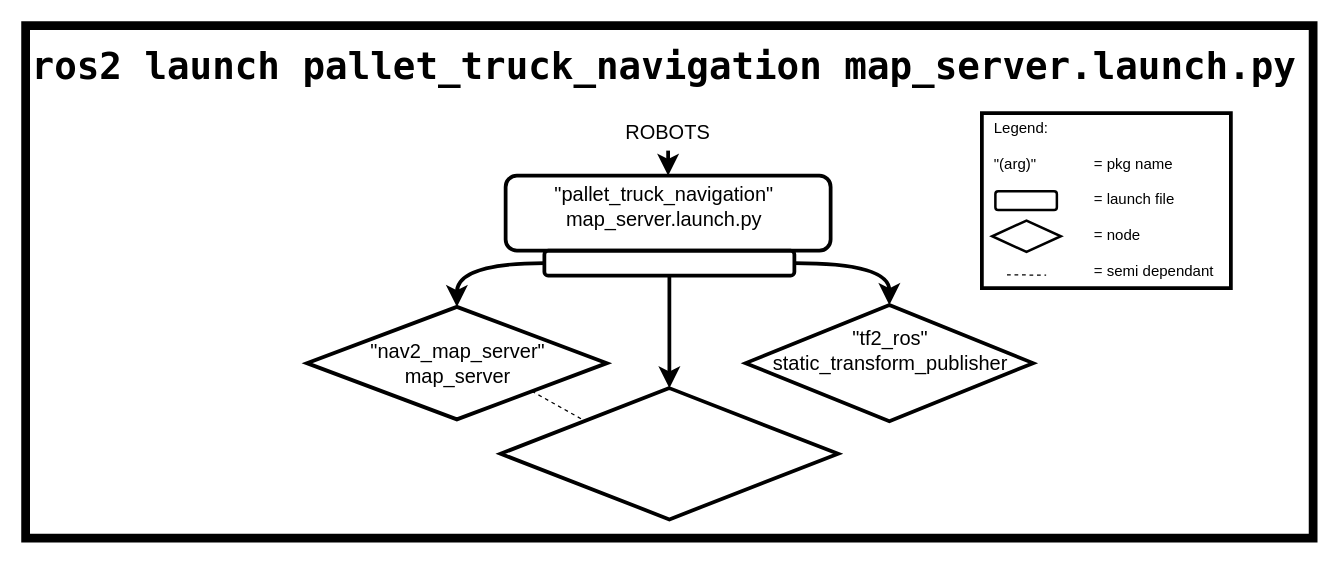
Some shapes in this 1339 by 564 pixel diagram are drawn without their labels. Here are the shapes that lost their labels. From the top down, the centre of each, then its label:
[669,262]: for each robot
[668,453]: "nav2_lifecycle_manager" lifecycle_manager
